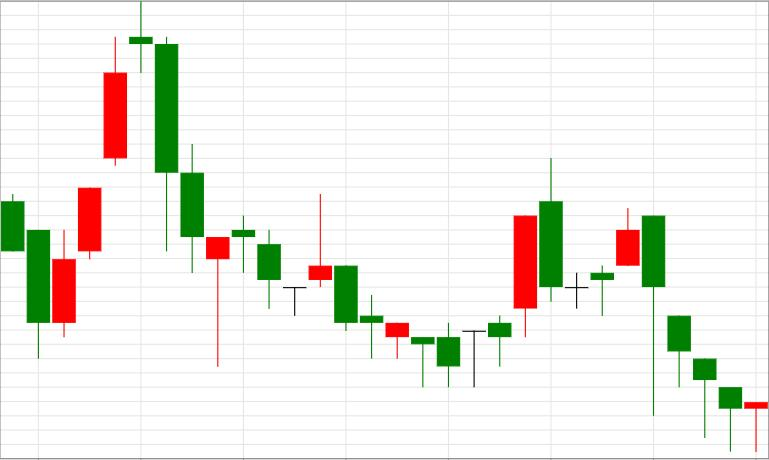evening_star_fall: (52, 2, 178, 338)
